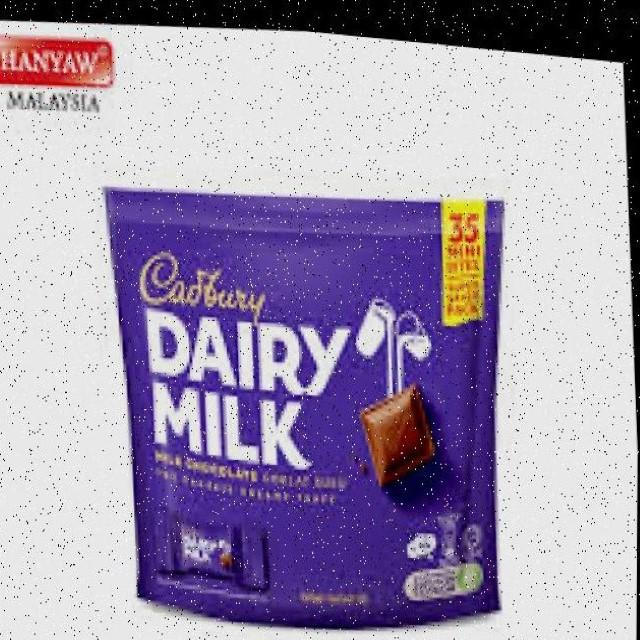cadbury_chocolate: (107, 185, 505, 613)
